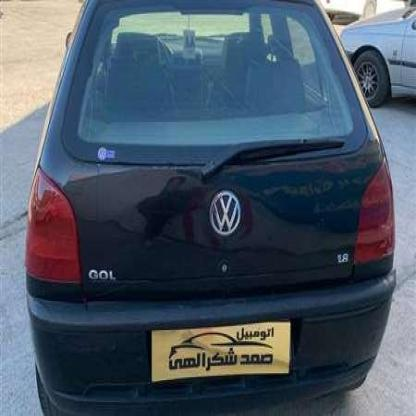Car: (14, 0, 394, 416), (321, 0, 416, 115)
